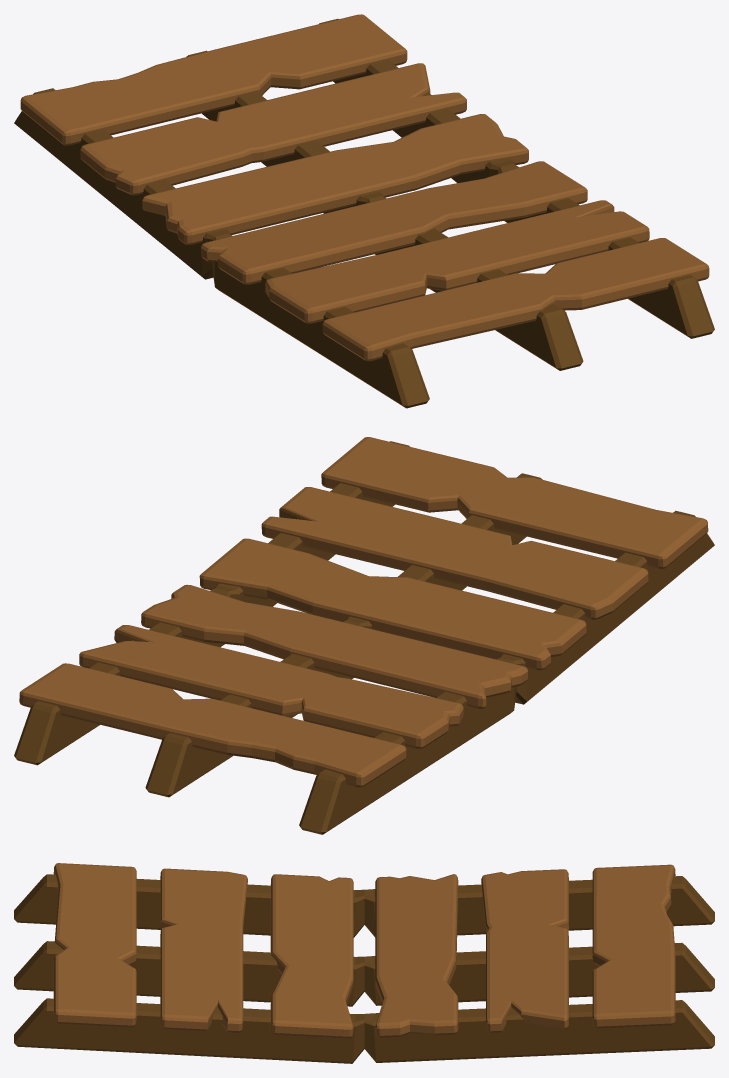
Rendered from WoodBridgeLarge.fbx.
3 renders of one model, top to bottom at view 1: azimuth 30°, elevation 25°; view 2: azimuth 150°, elevation 25°; view 3: azimuth 270°, elevation 25°, orthographic. The views are drawn at different scales.
Visible parts, largest first — view 1: Cube.001, Cube; view 2: Cube.001, Cube; view 3: Cube.001, Cube.
Part boxes in pixels (bbox=[...]): Cube.001: bbox=[20, 14, 709, 361]; Cube: bbox=[14, 18, 714, 408]; Cube.001: bbox=[19, 437, 708, 787]; Cube: bbox=[14, 441, 714, 834]; Cube.001: bbox=[53, 863, 675, 1038]; Cube: bbox=[14, 874, 714, 1063].
Bounding box in the file's own units: 613 × 117 × 1209.
